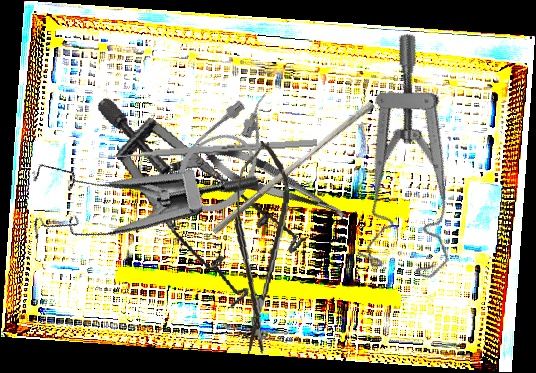Cannula: (162, 79, 300, 228)
Micro Scissor: (223, 139, 294, 357), (198, 136, 354, 232)
Pusher: (210, 95, 376, 241), (94, 138, 318, 162)
Speculum: (94, 60, 319, 327), (311, 29, 525, 294), (8, 85, 263, 280)
